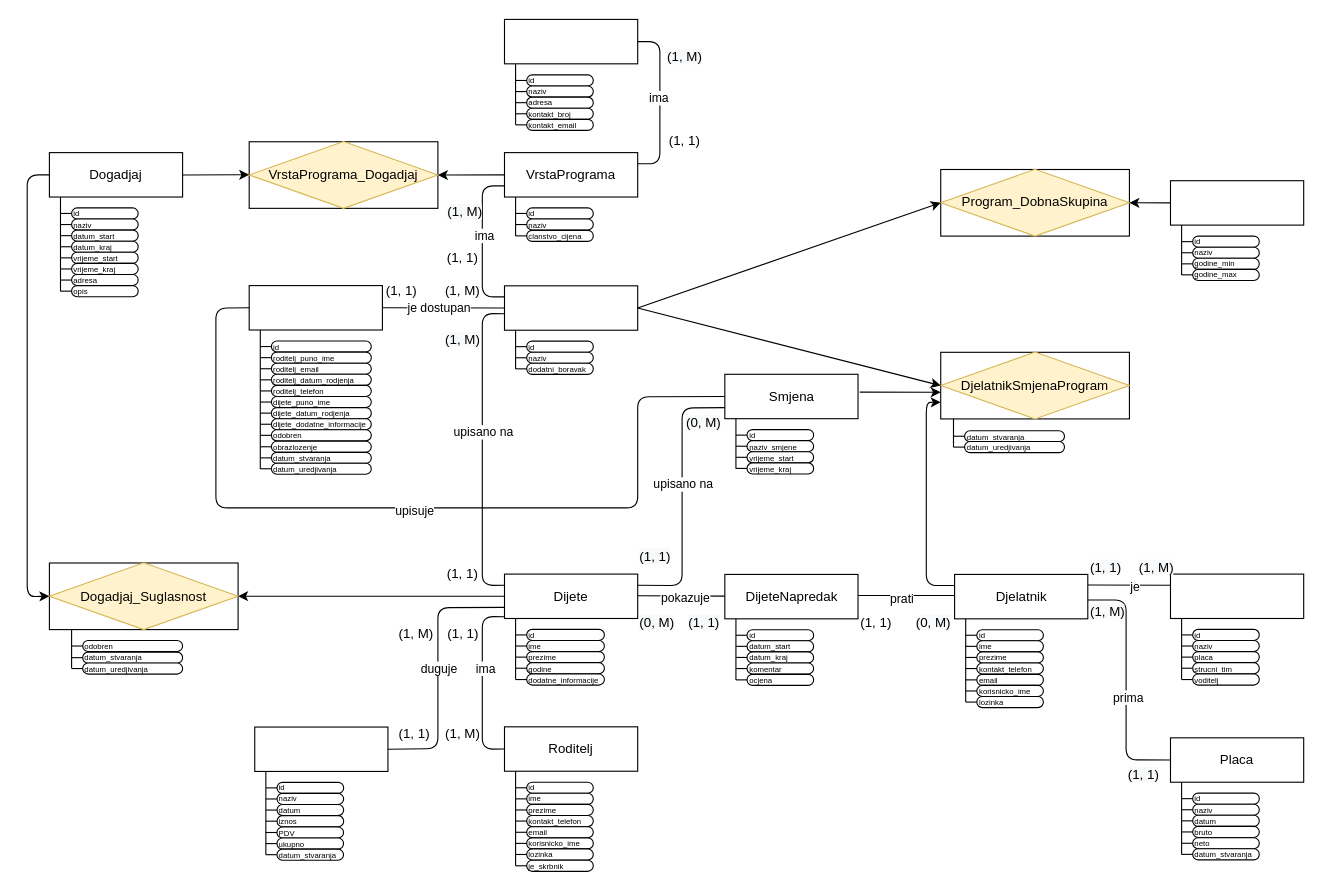
Some shapes in this 1323 by 895 pixel diagram are drawn without their labels. Here are the shapes that lost their labels. From the top down, the centre of each, then its label:
point 570,41: Vrtić
point 1236,202: DobnaSkupina
point 315,307: Upis
point 570,307: Program
point 1236,595: TipDjelatnika
point 321,748: Clanarina
